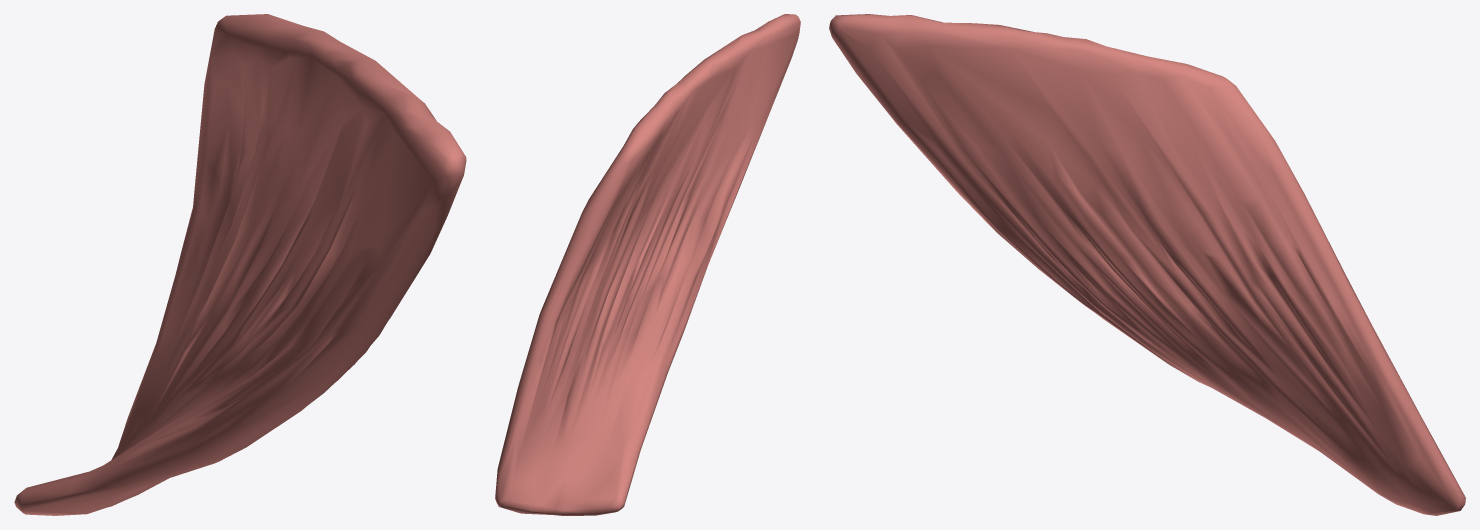
3 views of the same model, side by side, from view 1: azimuth 30°, elevation 25°; view 2: azimuth 150°, elevation 25°; view 3: azimuth 270°, elevation 25° (orthographic). The views are drawn at different scales.
Parts seen in each view (by area): view 1: ZA_413e7394dbb9477b; view 2: ZA_413e7394dbb9477b; view 3: ZA_413e7394dbb9477b.
Part boxes in pixels (box(x1,y1,x2,y2)): ZA_413e7394dbb9477b: box(14, 14, 466, 515); ZA_413e7394dbb9477b: box(495, 14, 800, 515); ZA_413e7394dbb9477b: box(829, 14, 1465, 515).
Size of the model in its own units: 0.00787 by 0.0253 by 0.0307.
